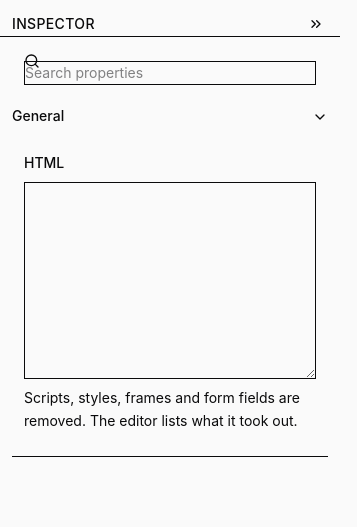
Test: editing markup › says what it took out, which the help text promises
The width and height of the screenshot is (357, 527).
Type "<script>alert(1)</script>" into the text box labelled "HTML".
click(170, 281); type("<script>alert(1)</script>")  # box 24,182 -> 316,379
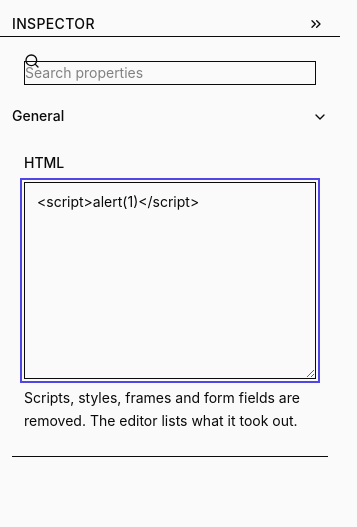
Press Tab
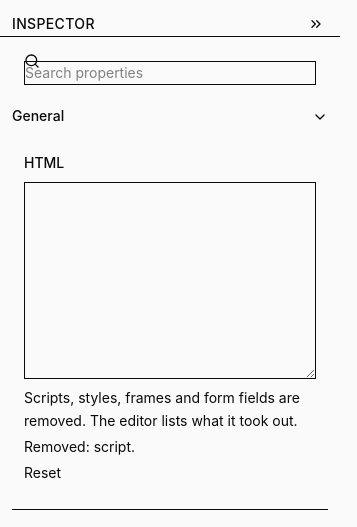
expect the text "Removed: script." is shown: met, box 24,438 -> 135,455
